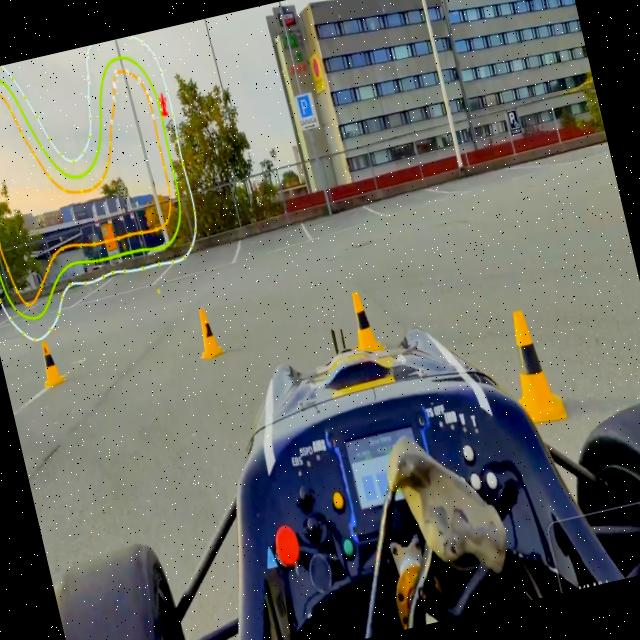yellow_cone: (492, 300, 575, 439), (172, 292, 234, 376), (338, 282, 390, 368), (26, 334, 73, 401)
